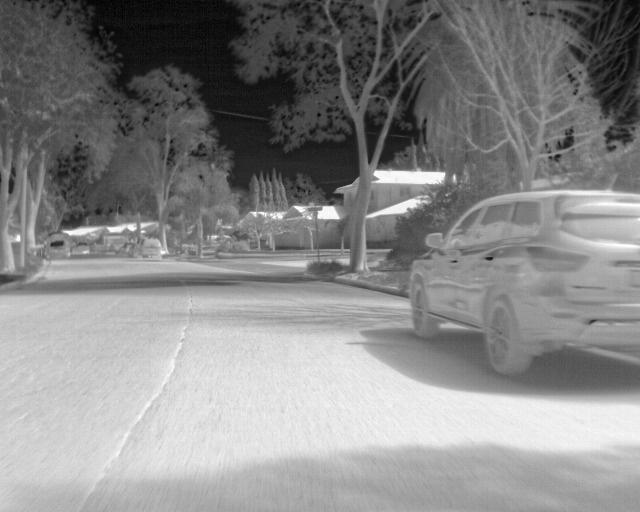car: (411, 189, 638, 377), (136, 235, 162, 258), (44, 239, 67, 260), (73, 243, 93, 258)
